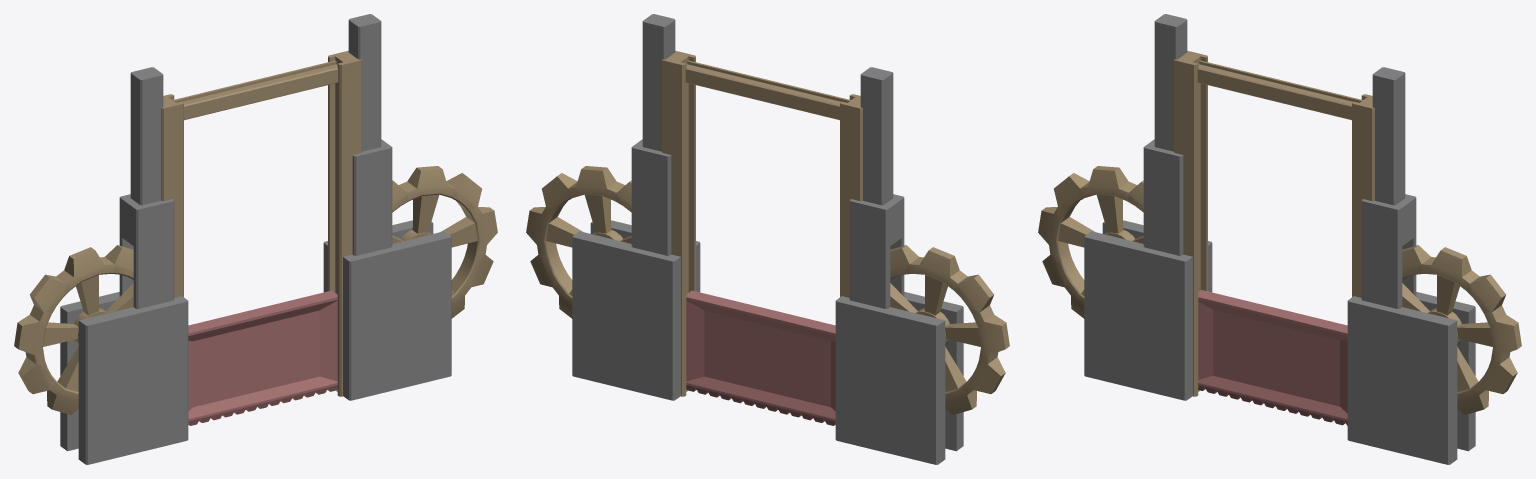
The model's file is DamGate.fbx.
3 views of the same model, side by side, from view 1: azimuth 30°, elevation 25°; view 2: azimuth 150°, elevation 25°; view 3: azimuth 330°, elevation 25° (orthographic).
Visible parts, largest first — view 1: group3_pCube4, pCube1, pCylinder3 (×2); view 2: group3_pCube4, pCube1, pCylinder3 (×2); view 3: group3_pCube4, pCube1, pCylinder3 (×2).
Boxes of the visible parts, x1,y1,x2,y2 form: group3_pCube4: [60, 14, 451, 464]; pCube1: [188, 290, 337, 425]; pCylinder3 (×2): [14, 166, 497, 414]; group3_pCube4: [572, 14, 963, 464]; pCube1: [686, 290, 835, 425]; pCylinder3 (×2): [526, 166, 1009, 414]; group3_pCube4: [1084, 14, 1475, 464]; pCube1: [1198, 290, 1347, 425]; pCylinder3 (×2): [1038, 166, 1521, 414].
Size of the model in its own units: 33.35 by 24.22 by 3.26.
